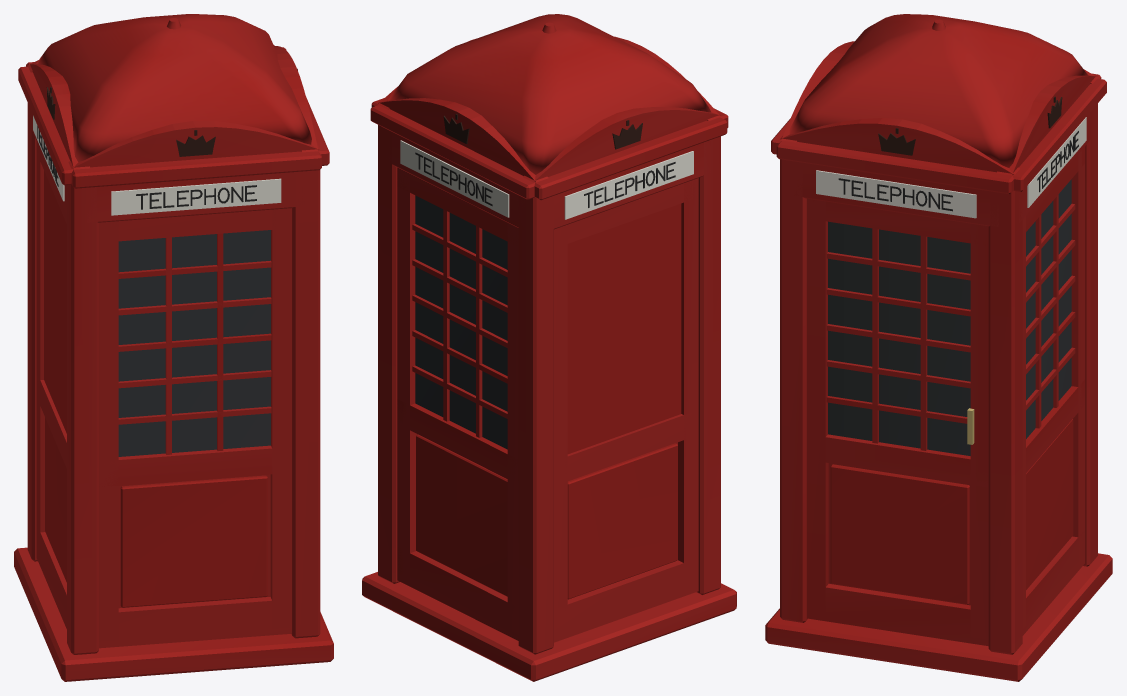
The model's file is phone-box.glb.
3 views of the same model, side by side, from view 1: azimuth 30°, elevation 25°; view 2: azimuth 150°, elevation 25°; view 3: azimuth 270°, elevation 25° (orthographic). The views are drawn at different scales.
Parts seen in each view (by area): view 1: phone-box-paint, phone-box-glass, phone-box-sign, phone-box-black; view 2: phone-box-paint, phone-box-glass, phone-box-sign, phone-box-black; view 3: phone-box-paint, phone-box-glass, phone-box-sign, phone-box-black.
Boxes of the visible parts, bbox=[...] form: phone-box-paint: bbox=[14, 14, 333, 681]; phone-box-glass: bbox=[118, 230, 270, 456]; phone-box-sign: bbox=[33, 115, 281, 215]; phone-box-black: bbox=[46, 68, 297, 156]; phone-box-paint: bbox=[362, 14, 736, 681]; phone-box-glass: bbox=[415, 195, 507, 449]; phone-box-sign: bbox=[400, 140, 693, 219]; phone-box-black: bbox=[443, 114, 642, 149]; phone-box-paint: bbox=[765, 14, 1112, 681]; phone-box-glass: bbox=[828, 179, 1071, 455]; phone-box-sign: bbox=[816, 117, 1086, 218]; phone-box-black: bbox=[878, 96, 1062, 155].
Size of the model in its own units: 1.49 by 2.78 by 1.49.
